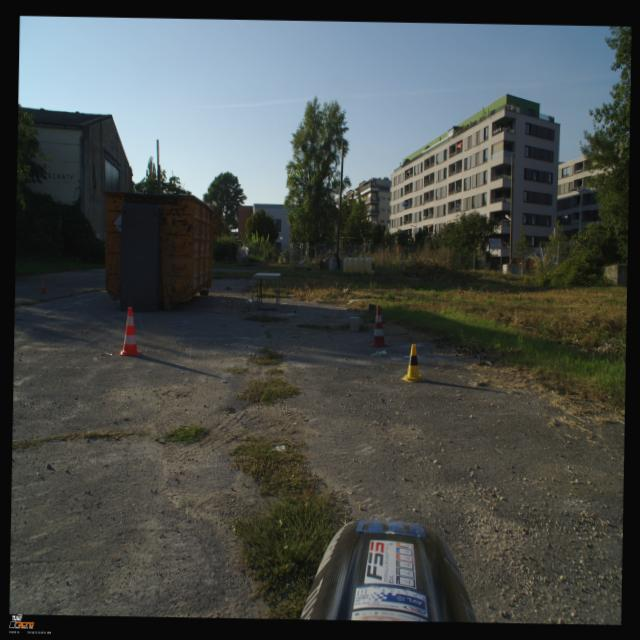large_orange_cone: (369, 306, 393, 348), (120, 307, 140, 355)
yellow_cone: (400, 344, 426, 382)
